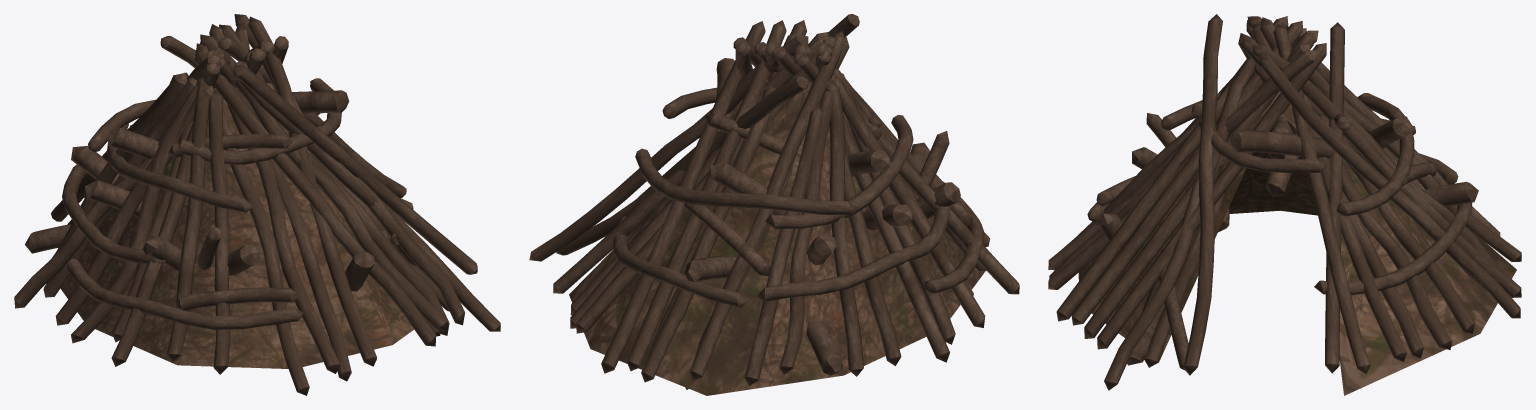
File: BeaverDen.fbx
3 views of the same model, side by side, from view 1: azimuth 30°, elevation 25°; view 2: azimuth 150°, elevation 25°; view 3: azimuth 270°, elevation 25° (orthographic). The views are drawn at different scales.
Visible parts, largest first — view 1: Cylinder051, Plane001; view 2: Cylinder051, Plane001; view 3: Cylinder051, Plane001.
Part boxes in pixels (box(x1,y1,x2,y2)): Cylinder051: box(14, 14, 500, 395); Plane001: box(60, 83, 413, 368); Cylinder051: box(529, 14, 1019, 389); Plane001: box(569, 81, 985, 395); Cylinder051: box(1048, 14, 1521, 390); Plane001: box(1078, 91, 1516, 395).
Size of the model in its own units: 49.28 by 32.8 by 50.96.
Materials: 2 (2 with a texture image).
